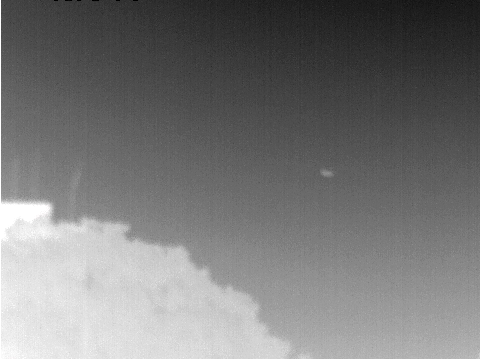dim target: (319, 168, 334, 178)
